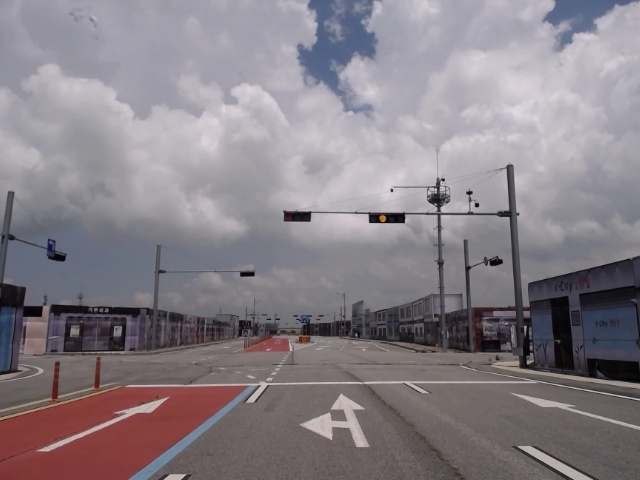orange_4: (368, 214, 407, 224)
